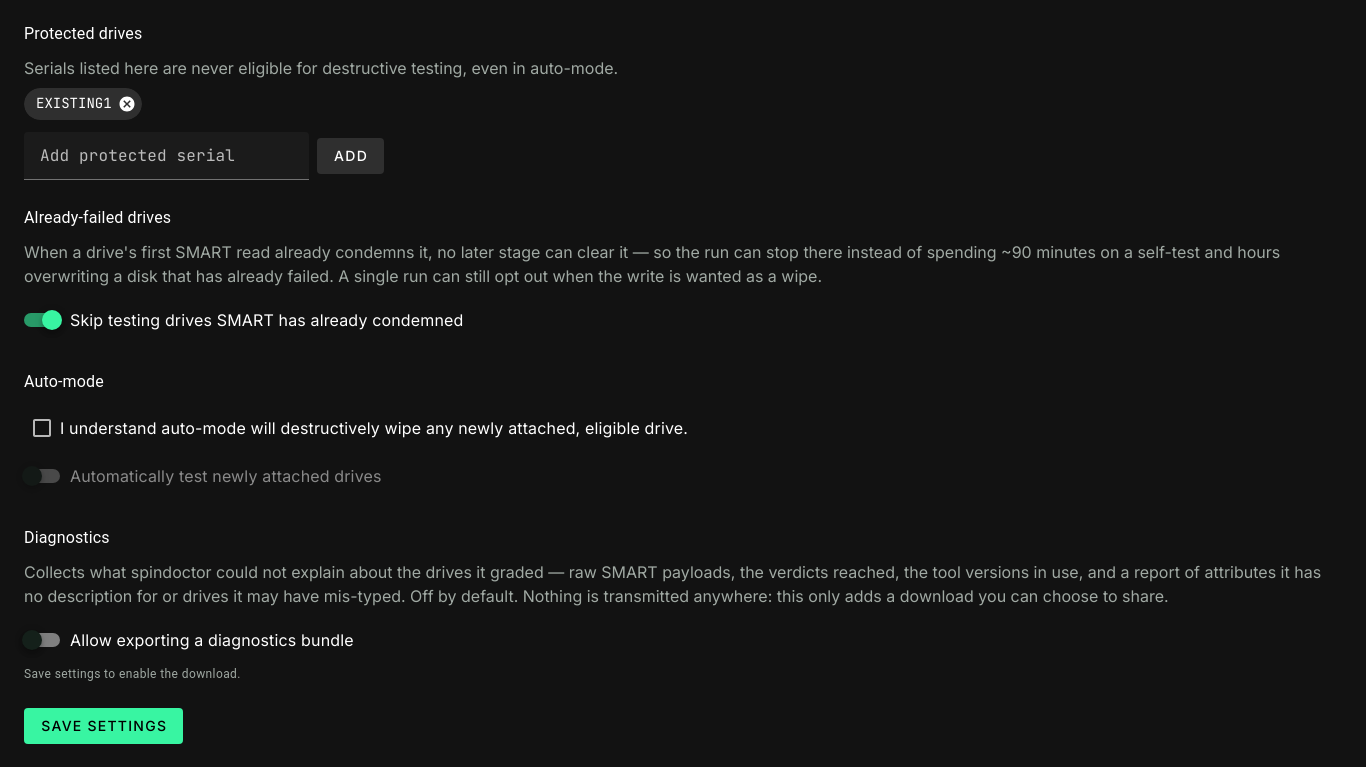
Scenario: SettingsView › diagnostics › reveals the sub-toggle as soon as it is switched on, before saving
The image size is (1366, 767).
(page scrolled)
Click the checkbox with id "diagnostics-toggle" at point(212, 640), box [70, 630, 354, 650]
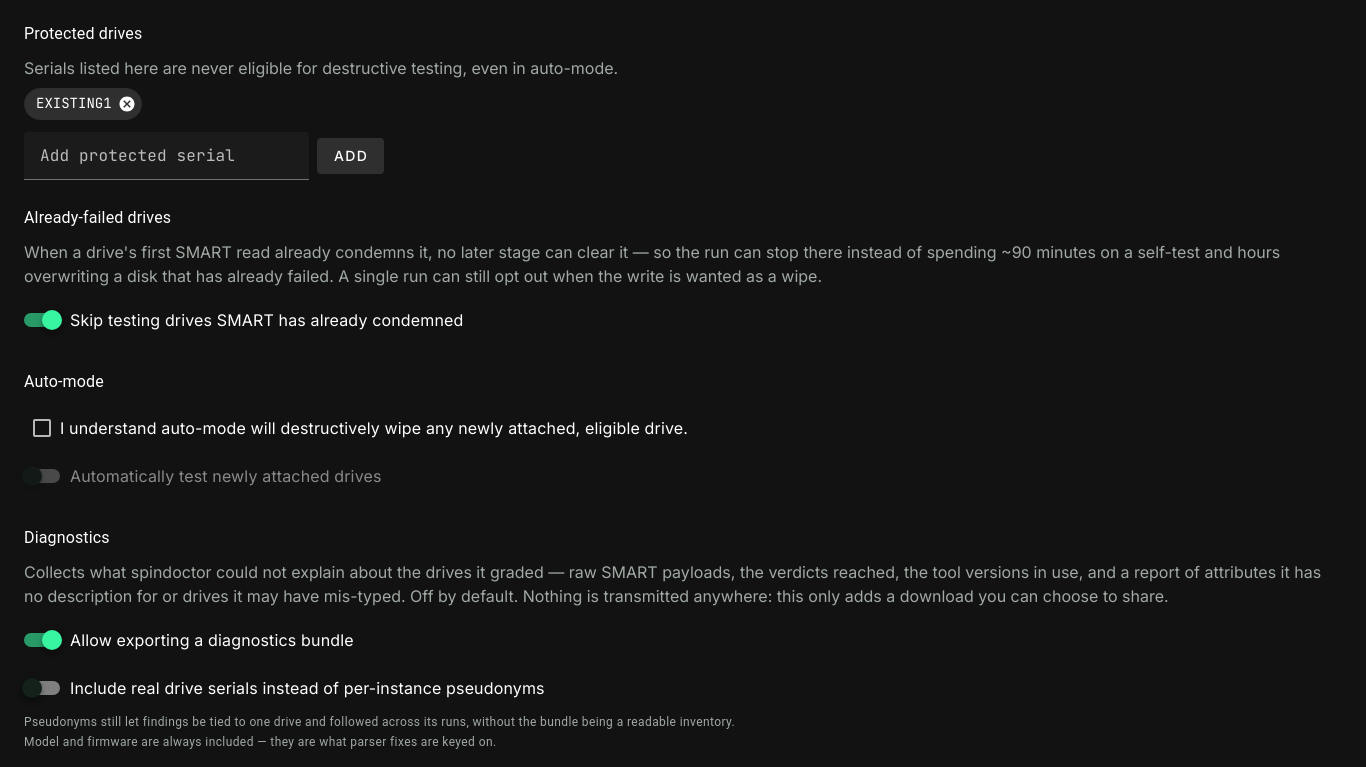
Expected: the checkbox with id "diagnostics-serials-toggle" is shown, [70, 678, 545, 698]
